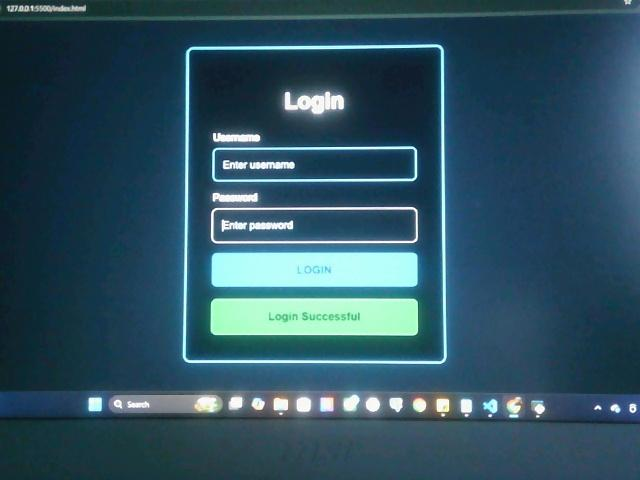login_button: (211, 250, 418, 288)
login_form: (184, 46, 445, 364)
password_input: (211, 207, 419, 245)
success_alert: (210, 297, 418, 336)
title_text: (282, 90, 347, 117)
username_input: (212, 146, 418, 183)
